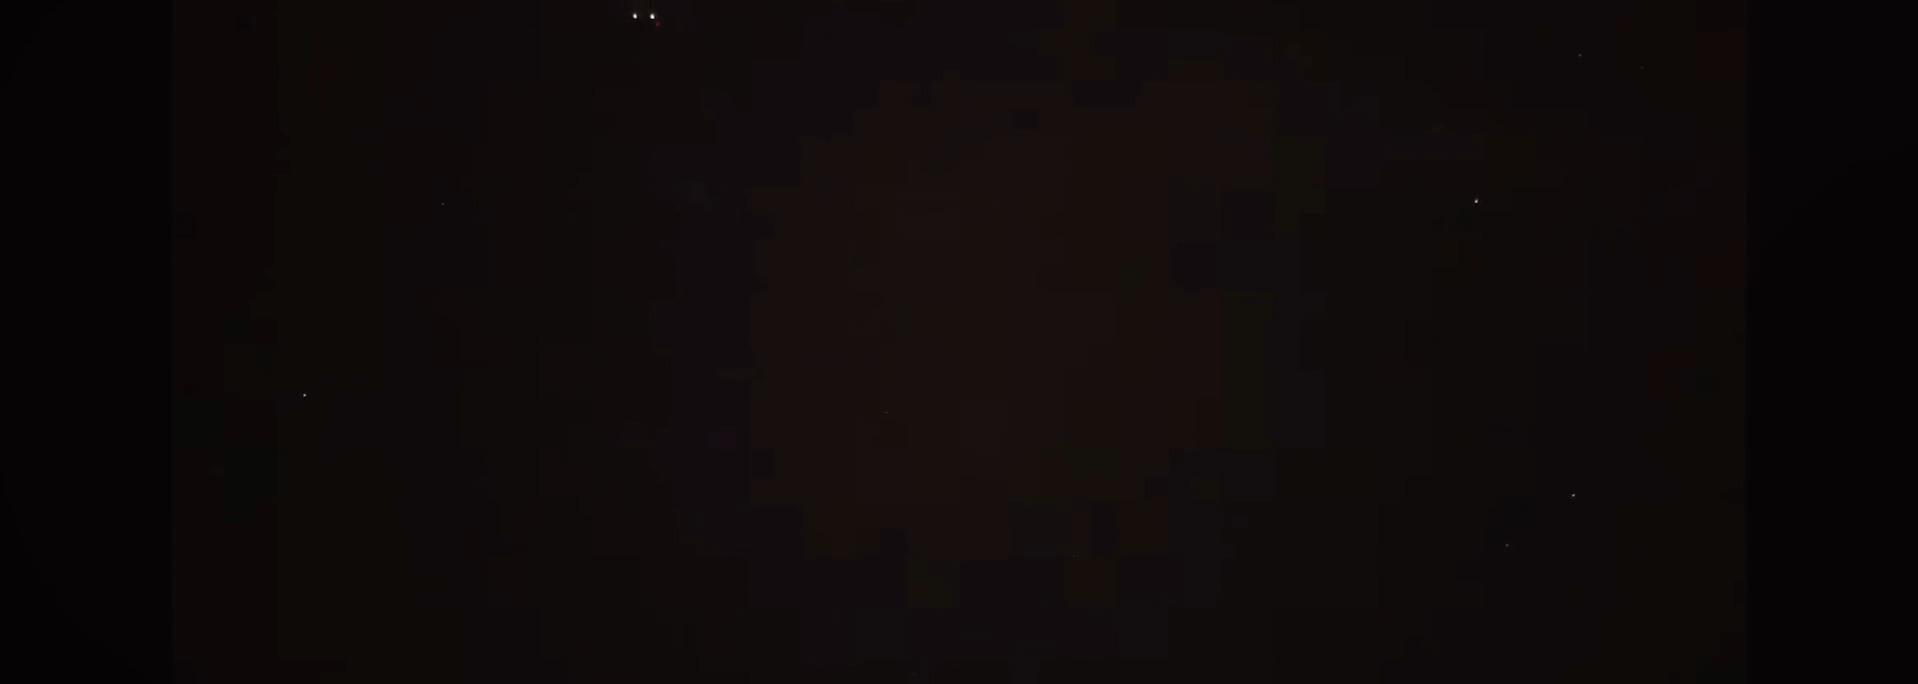Plane: (599, 2, 697, 37)
